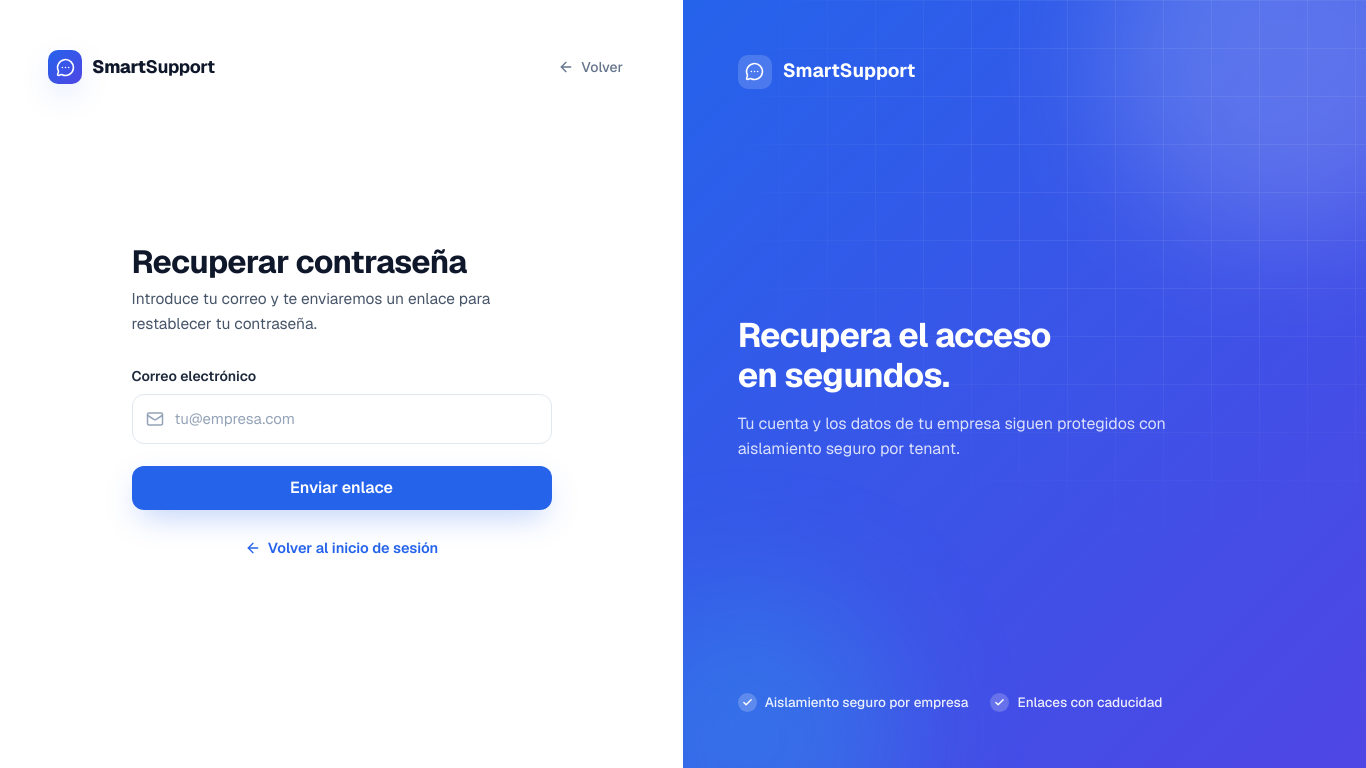
Scenario: ForgotPasswordPage › muestra confirmación después de enviar
Step 1. Type "test@test.com" into the field labelled "Correo electrónico" → [342, 419], box [132,394,552,444]
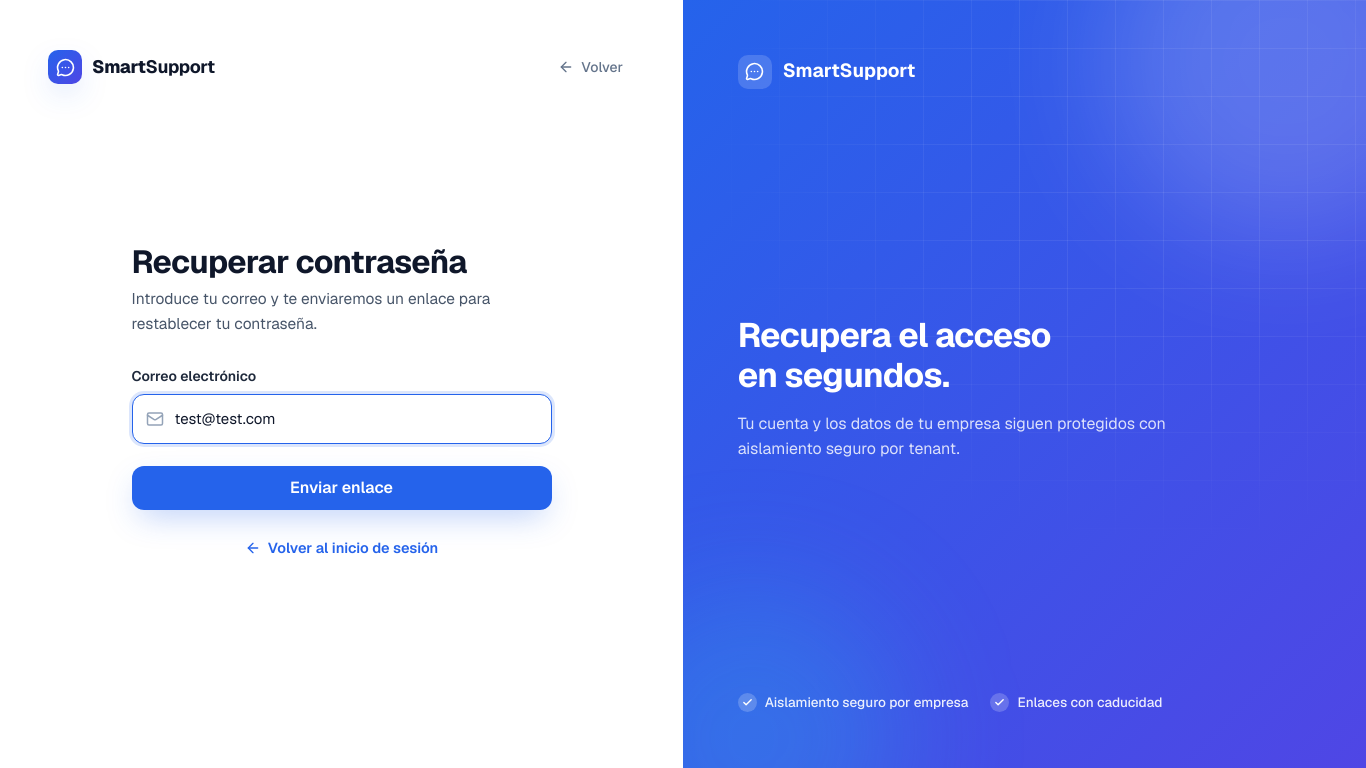
Step 2. Click the button "Enviar enlace" → [342, 488], box [132,466,552,510]
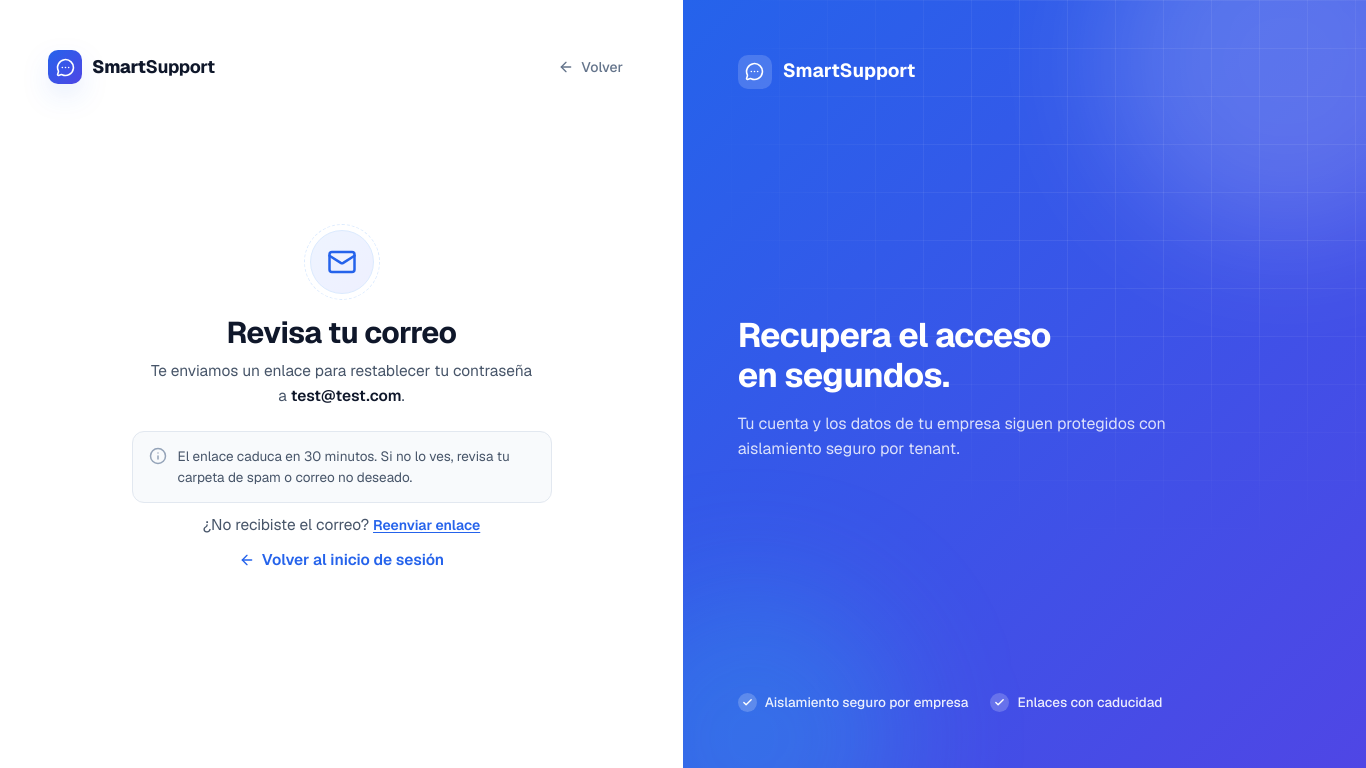
Expected: the heading "Revisa tu correo" is shown, [227,314,456,352]
